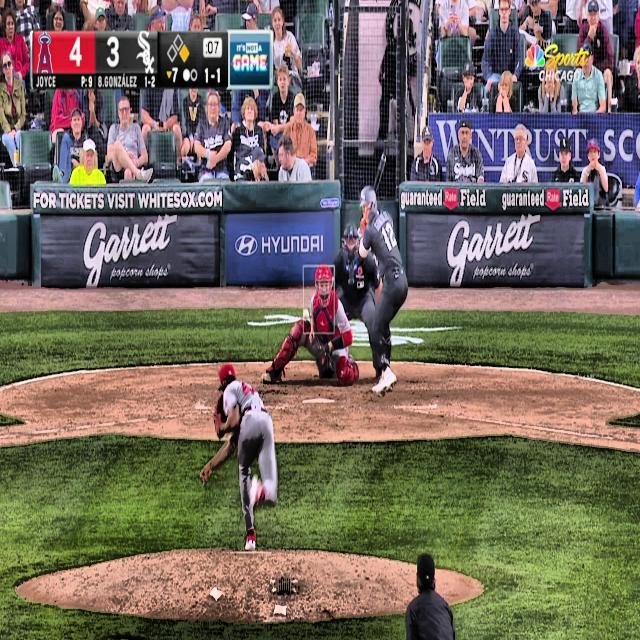baseball: (303, 308, 310, 321)
